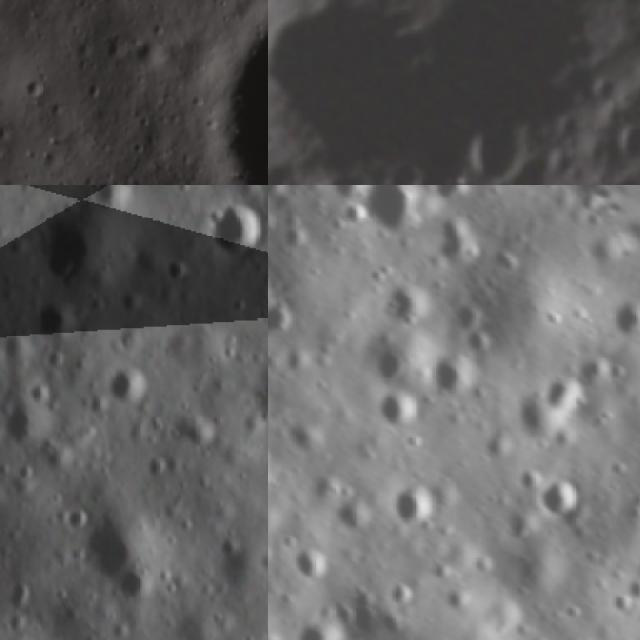crater: (179, 0, 268, 185), (69, 502, 149, 585), (33, 209, 107, 294), (192, 189, 268, 268), (458, 121, 524, 185), (98, 353, 164, 417), (352, 185, 429, 237), (20, 288, 81, 352), (268, 261, 316, 342), (527, 467, 589, 525), (0, 390, 54, 455), (105, 559, 162, 616), (364, 378, 420, 435), (374, 275, 434, 328), (372, 571, 430, 624), (387, 475, 443, 529), (534, 368, 588, 419), (329, 480, 378, 530), (282, 542, 333, 584), (291, 606, 353, 640), (426, 354, 469, 399), (83, 185, 134, 222), (60, 494, 100, 541), (452, 288, 496, 330), (397, 157, 456, 185), (610, 112, 640, 166), (607, 290, 640, 339), (137, 444, 175, 486), (457, 324, 498, 362), (584, 74, 624, 111), (547, 112, 584, 146), (603, 168, 640, 185), (0, 466, 12, 517), (268, 613, 289, 640)
